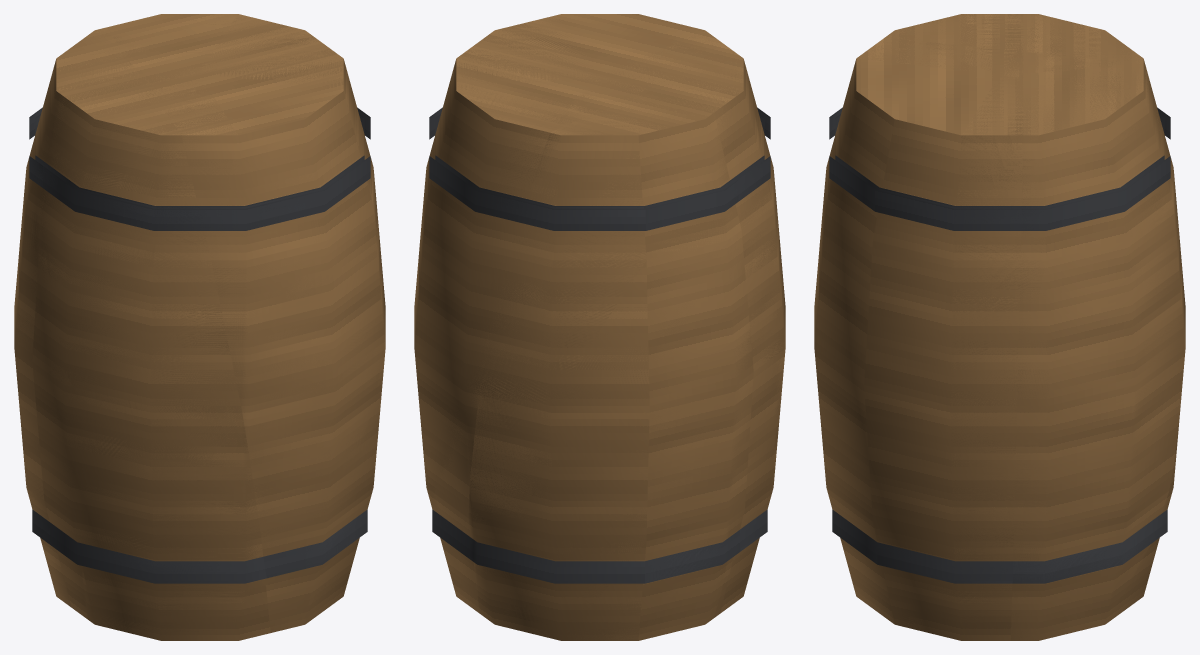
The model's file is barril_madeira.glb.
The picture shows the model from 3 angles, left to right: view 1: azimuth 30°, elevation 25°; view 2: azimuth 150°, elevation 25°; view 3: azimuth 270°, elevation 25°; orthographic projection.
Visible parts, largest first — view 1: Inteiro, Peca_00, Peca_02, Peca_01, Peca_03; view 2: Inteiro, Peca_01, Peca_00, Peca_03, Peca_02; view 3: Inteiro, Peca_03, Peca_02, Peca_01, Peca_00.
Boxes of the visible parts, x1,y1,x2,y2 form: Inteiro: (14, 14, 385, 635); Peca_00: (32, 80, 270, 640); Peca_02: (143, 36, 385, 632); Peca_01: (14, 27, 138, 606); Peca_03: (109, 14, 312, 77); Inteiro: (414, 14, 785, 640); Peca_01: (468, 94, 753, 640); Peca_00: (638, 52, 783, 613); Peca_03: (416, 53, 634, 613); Peca_02: (464, 14, 722, 92); Inteiro: (814, 14, 1185, 640); Peca_03: (1010, 51, 1185, 640); Peca_02: (814, 39, 1022, 640); Peca_01: (1020, 14, 1184, 597); Peca_00: (885, 14, 1020, 50).
Size of the model in its own units: 0.5989 by 0.9 by 0.5989.
1 material, 1 textured.
